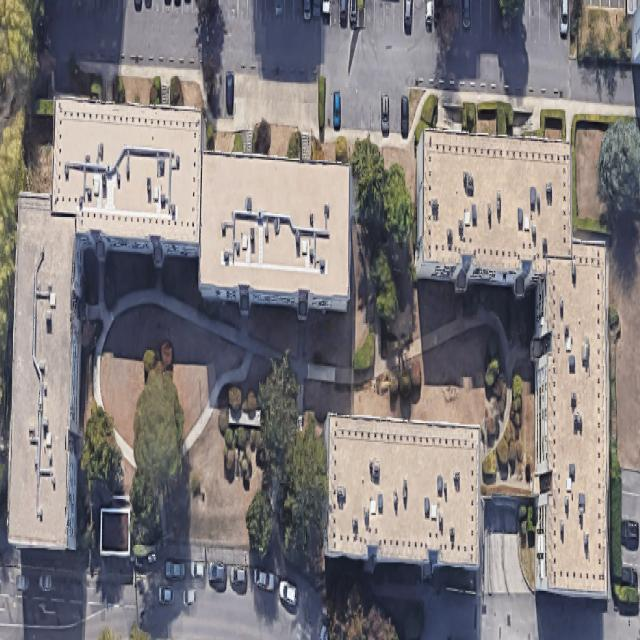immeuble: (403, 128, 584, 303), (528, 242, 611, 598), (6, 195, 87, 550), (197, 152, 353, 320), (322, 413, 481, 575), (50, 98, 203, 263)
